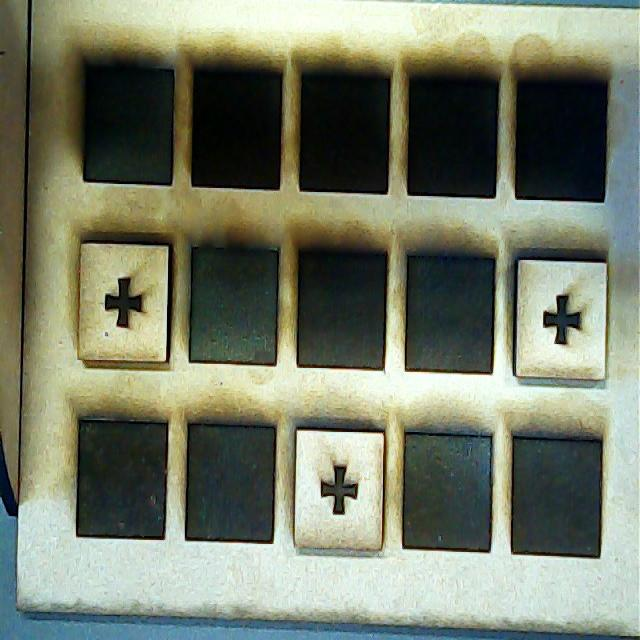temple: (516, 258, 610, 380), (296, 428, 386, 553), (77, 239, 169, 360)
